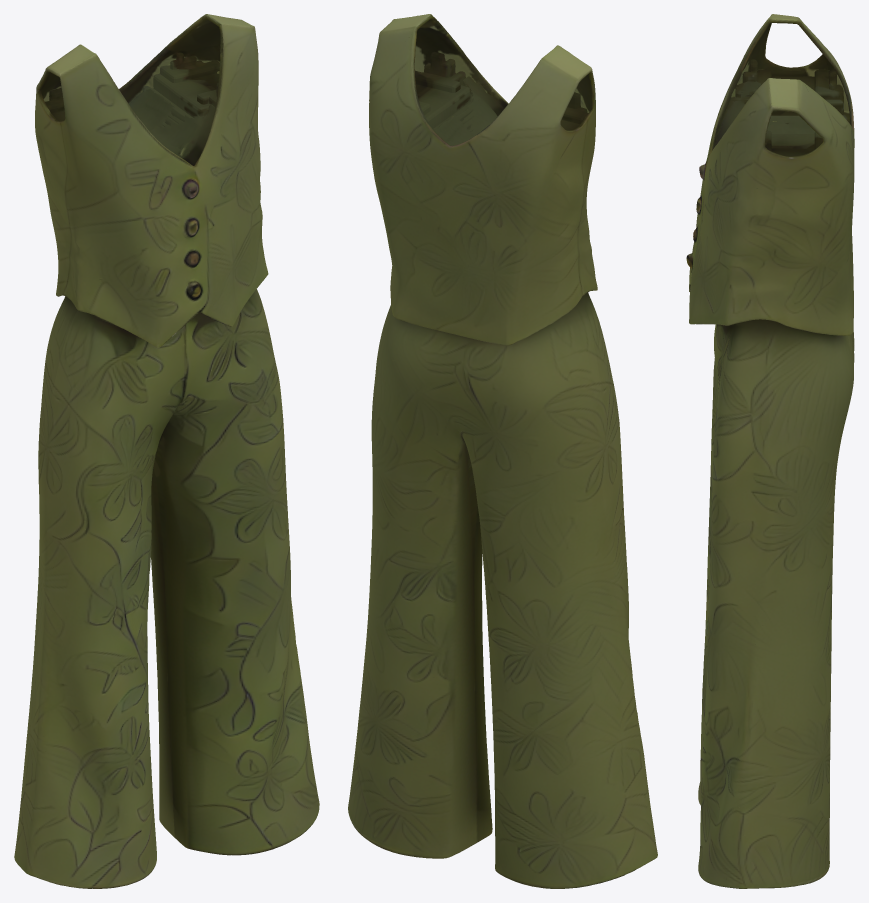
File: base_basic_shaded.glb
3 views of the same model, side by side, from view 1: azimuth 30°, elevation 25°; view 2: azimuth 150°, elevation 25°; view 3: azimuth 270°, elevation 25° (orthographic). The views are drawn at different scales.
Parts seen in each view (by area): view 1: model; view 2: model; view 3: model.
Boxes of the visible parts, x1,y1,x2,y2 form: model: (14, 14, 319, 888); model: (348, 14, 657, 888); model: (686, 14, 854, 888).
Bounding box in the file's own units: 0.7222 × 1.9 × 0.3681.
1 material, 1 textured.
